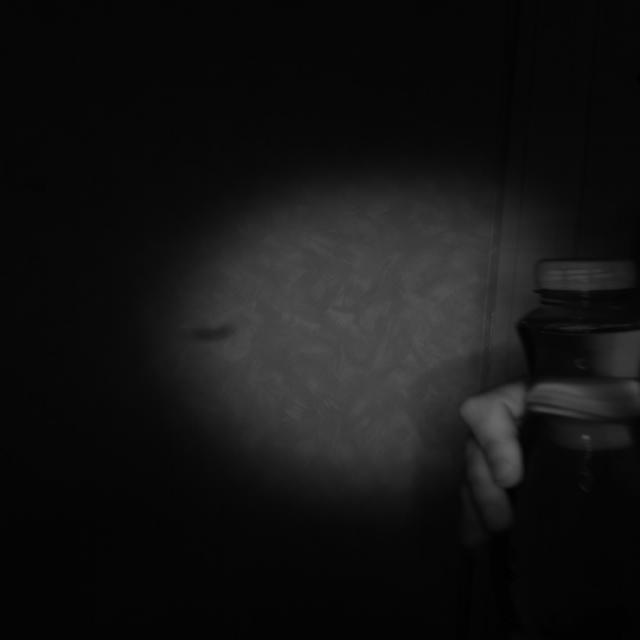Good: (528, 252, 640, 297)
